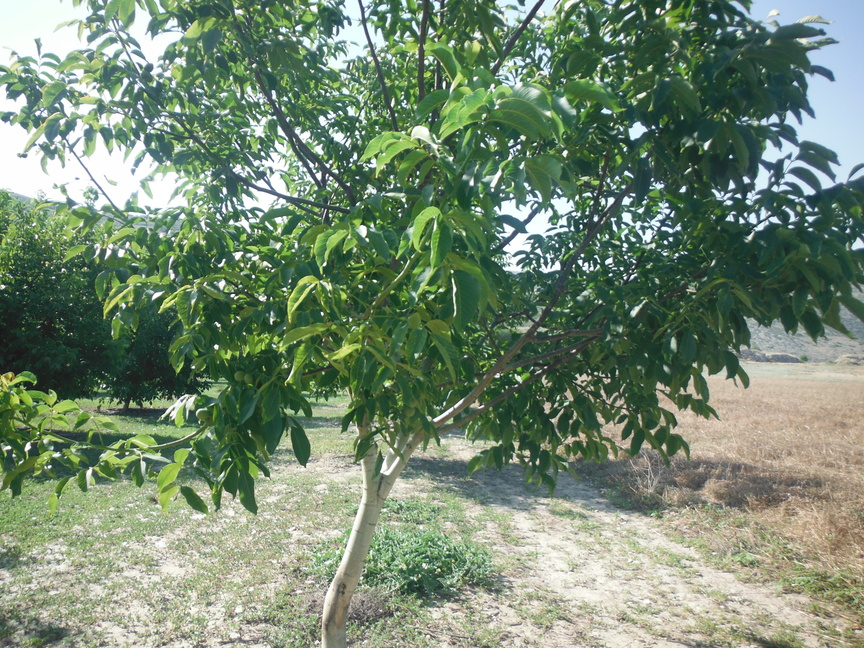walnut: (192, 404, 213, 422), (536, 385, 553, 401), (192, 240, 205, 260), (401, 404, 418, 419), (776, 208, 791, 225), (403, 394, 420, 408), (152, 76, 164, 95), (232, 367, 247, 382), (243, 372, 257, 388), (136, 67, 151, 81), (143, 60, 155, 75), (536, 396, 548, 411), (369, 102, 380, 111), (518, 458, 527, 469), (513, 451, 523, 460)
